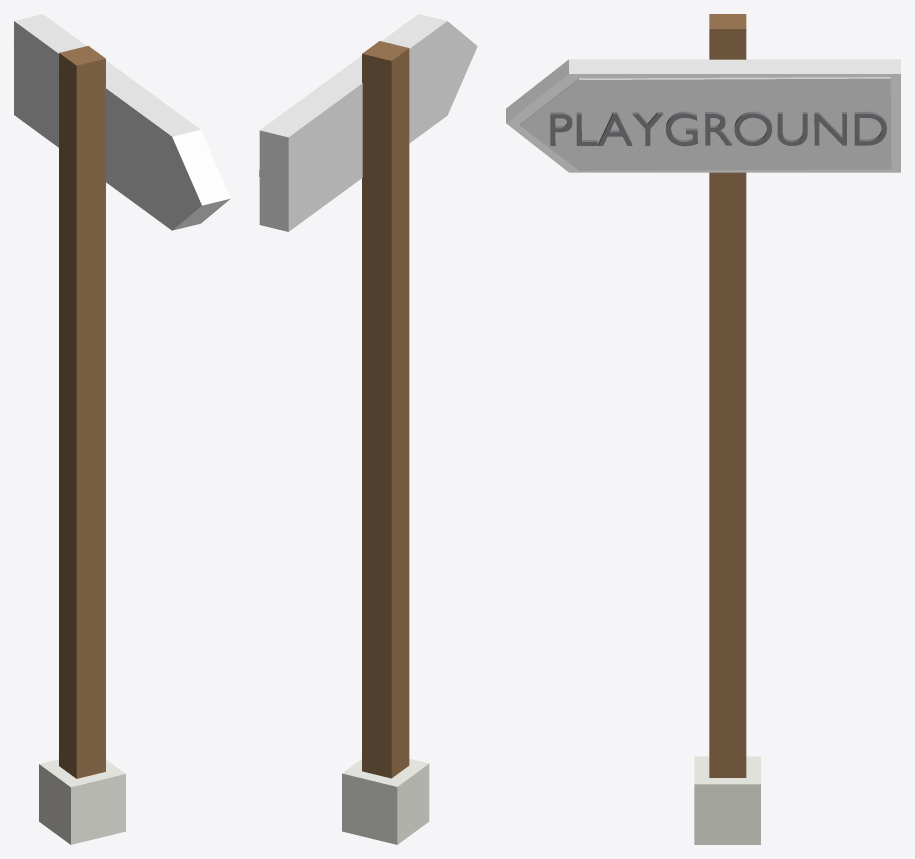
Rendered from playgroundSign.glb.
3 views of the same model, side by side, from view 1: azimuth 30°, elevation 25°; view 2: azimuth 150°, elevation 25°; view 3: azimuth 270°, elevation 25° (orthographic). The views are drawn at different scales.
Visible parts, largest first — view 1: Cube, Cube.002, Cube.001; view 2: Cube, Cube.002, Cube.001; view 3: Cube.003, Cube, Cube.002, Cube.001, Text.001.
Boxes of the visible parts, <box> form: Cube: <box>59,45,105,778</box>; Cube.002: <box>14,14,230,230</box>; Cube.001: <box>39,759,125,844</box>; Cube: <box>362,41,409,778</box>; Cube.002: <box>259,14,477,231</box>; Cube.001: <box>342,758,429,844</box>; Cube.003: <box>520,77,891,170</box>; Cube: <box>709,14,746,777</box>; Cube.002: <box>506,59,900,172</box>; Cube.001: <box>694,756,760,844</box>; Text.001: <box>550,111,886,146</box>.
Bounding box in the file's own units: 1.19 × 11.31 × 5.
